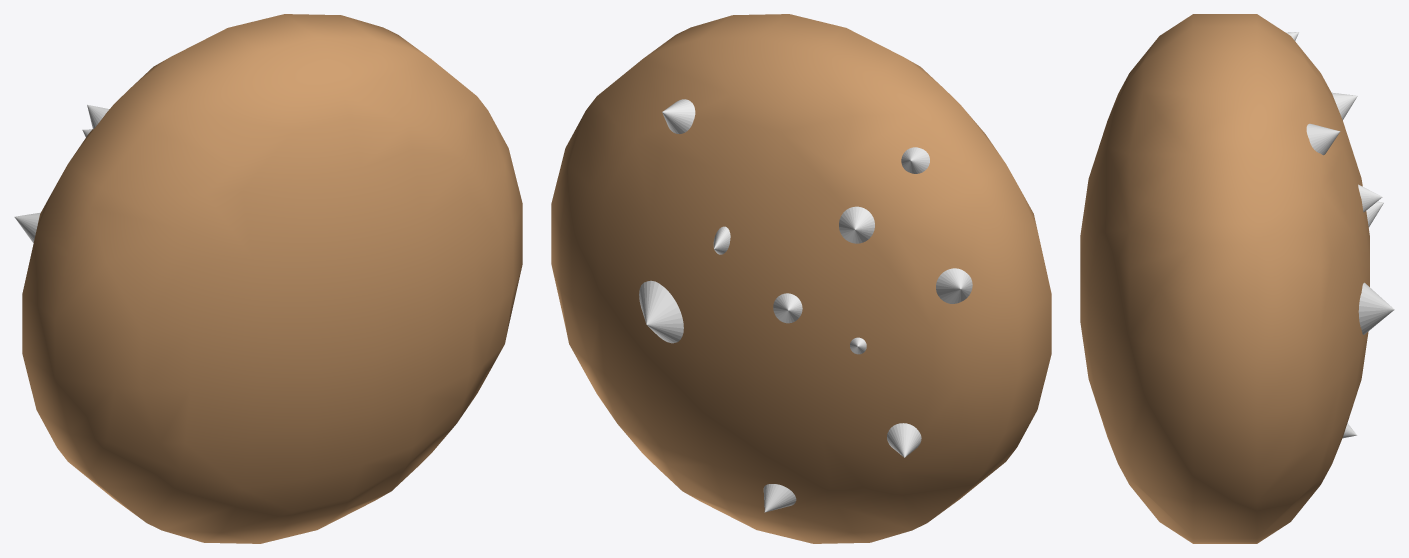
The model's file is cookie1.glb.
3 views of the same model, side by side, from view 1: azimuth 30°, elevation 25°; view 2: azimuth 150°, elevation 25°; view 3: azimuth 270°, elevation 25° (orthographic). The views are drawn at different scales.
Visible parts, largest first — view 1: Mball.001; view 2: Mball.001, Cone.003, Cone, Cone.011, Cone.008, Cone.002, Cone.009, Cone.005, Cone.001; view 3: Mball.001, Cone.003, Cone.002.
Boxes of the visible parts, x1,y1,x2,y2 form: Mball.001: (22, 14, 522, 543); Mball.001: (551, 14, 1051, 543); Cone.003: (639, 280, 683, 343); Cone: (839, 206, 874, 243); Cone.011: (936, 268, 972, 303); Cone.008: (887, 423, 921, 457); Cone.002: (662, 99, 695, 133); Cone.009: (763, 484, 796, 512); Cone.005: (773, 293, 802, 323); Cone.001: (901, 147, 929, 173); Mball.001: (1080, 14, 1369, 543); Cone.003: (1358, 282, 1394, 334); Cone.002: (1306, 123, 1340, 155).
Size of the model in its own units: 3.29 by 3.31 by 1.97.
